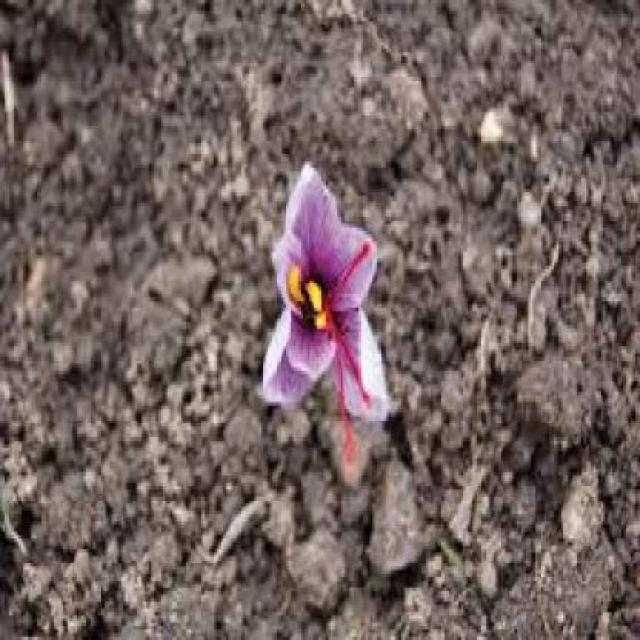Flower: (257, 161, 389, 424)
stigma: (331, 325, 361, 463), (319, 242, 376, 310), (344, 334, 378, 403)
